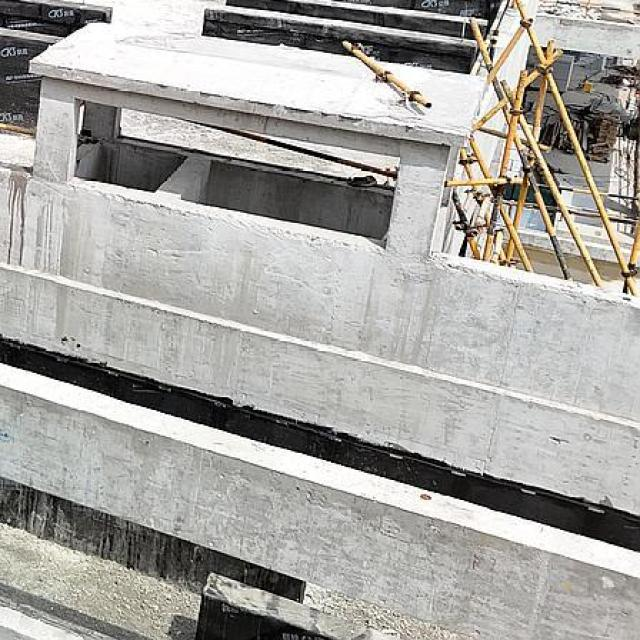edge_guardrail: (500, 178, 639, 223)
